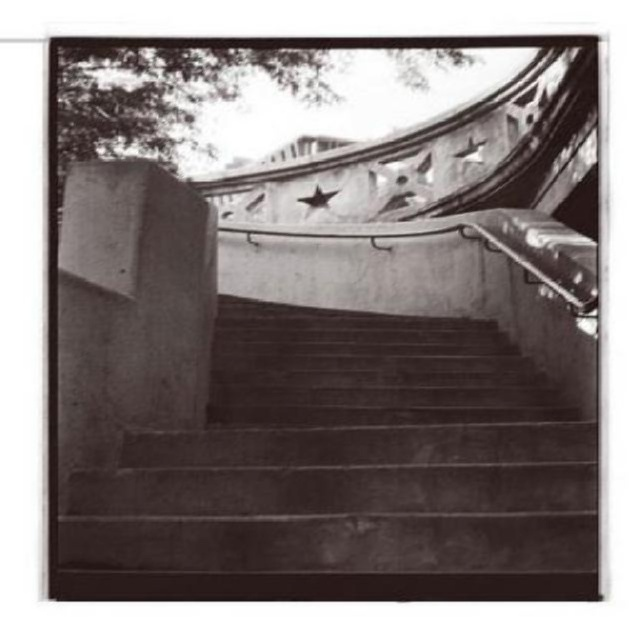stair: (57, 288, 598, 600)
